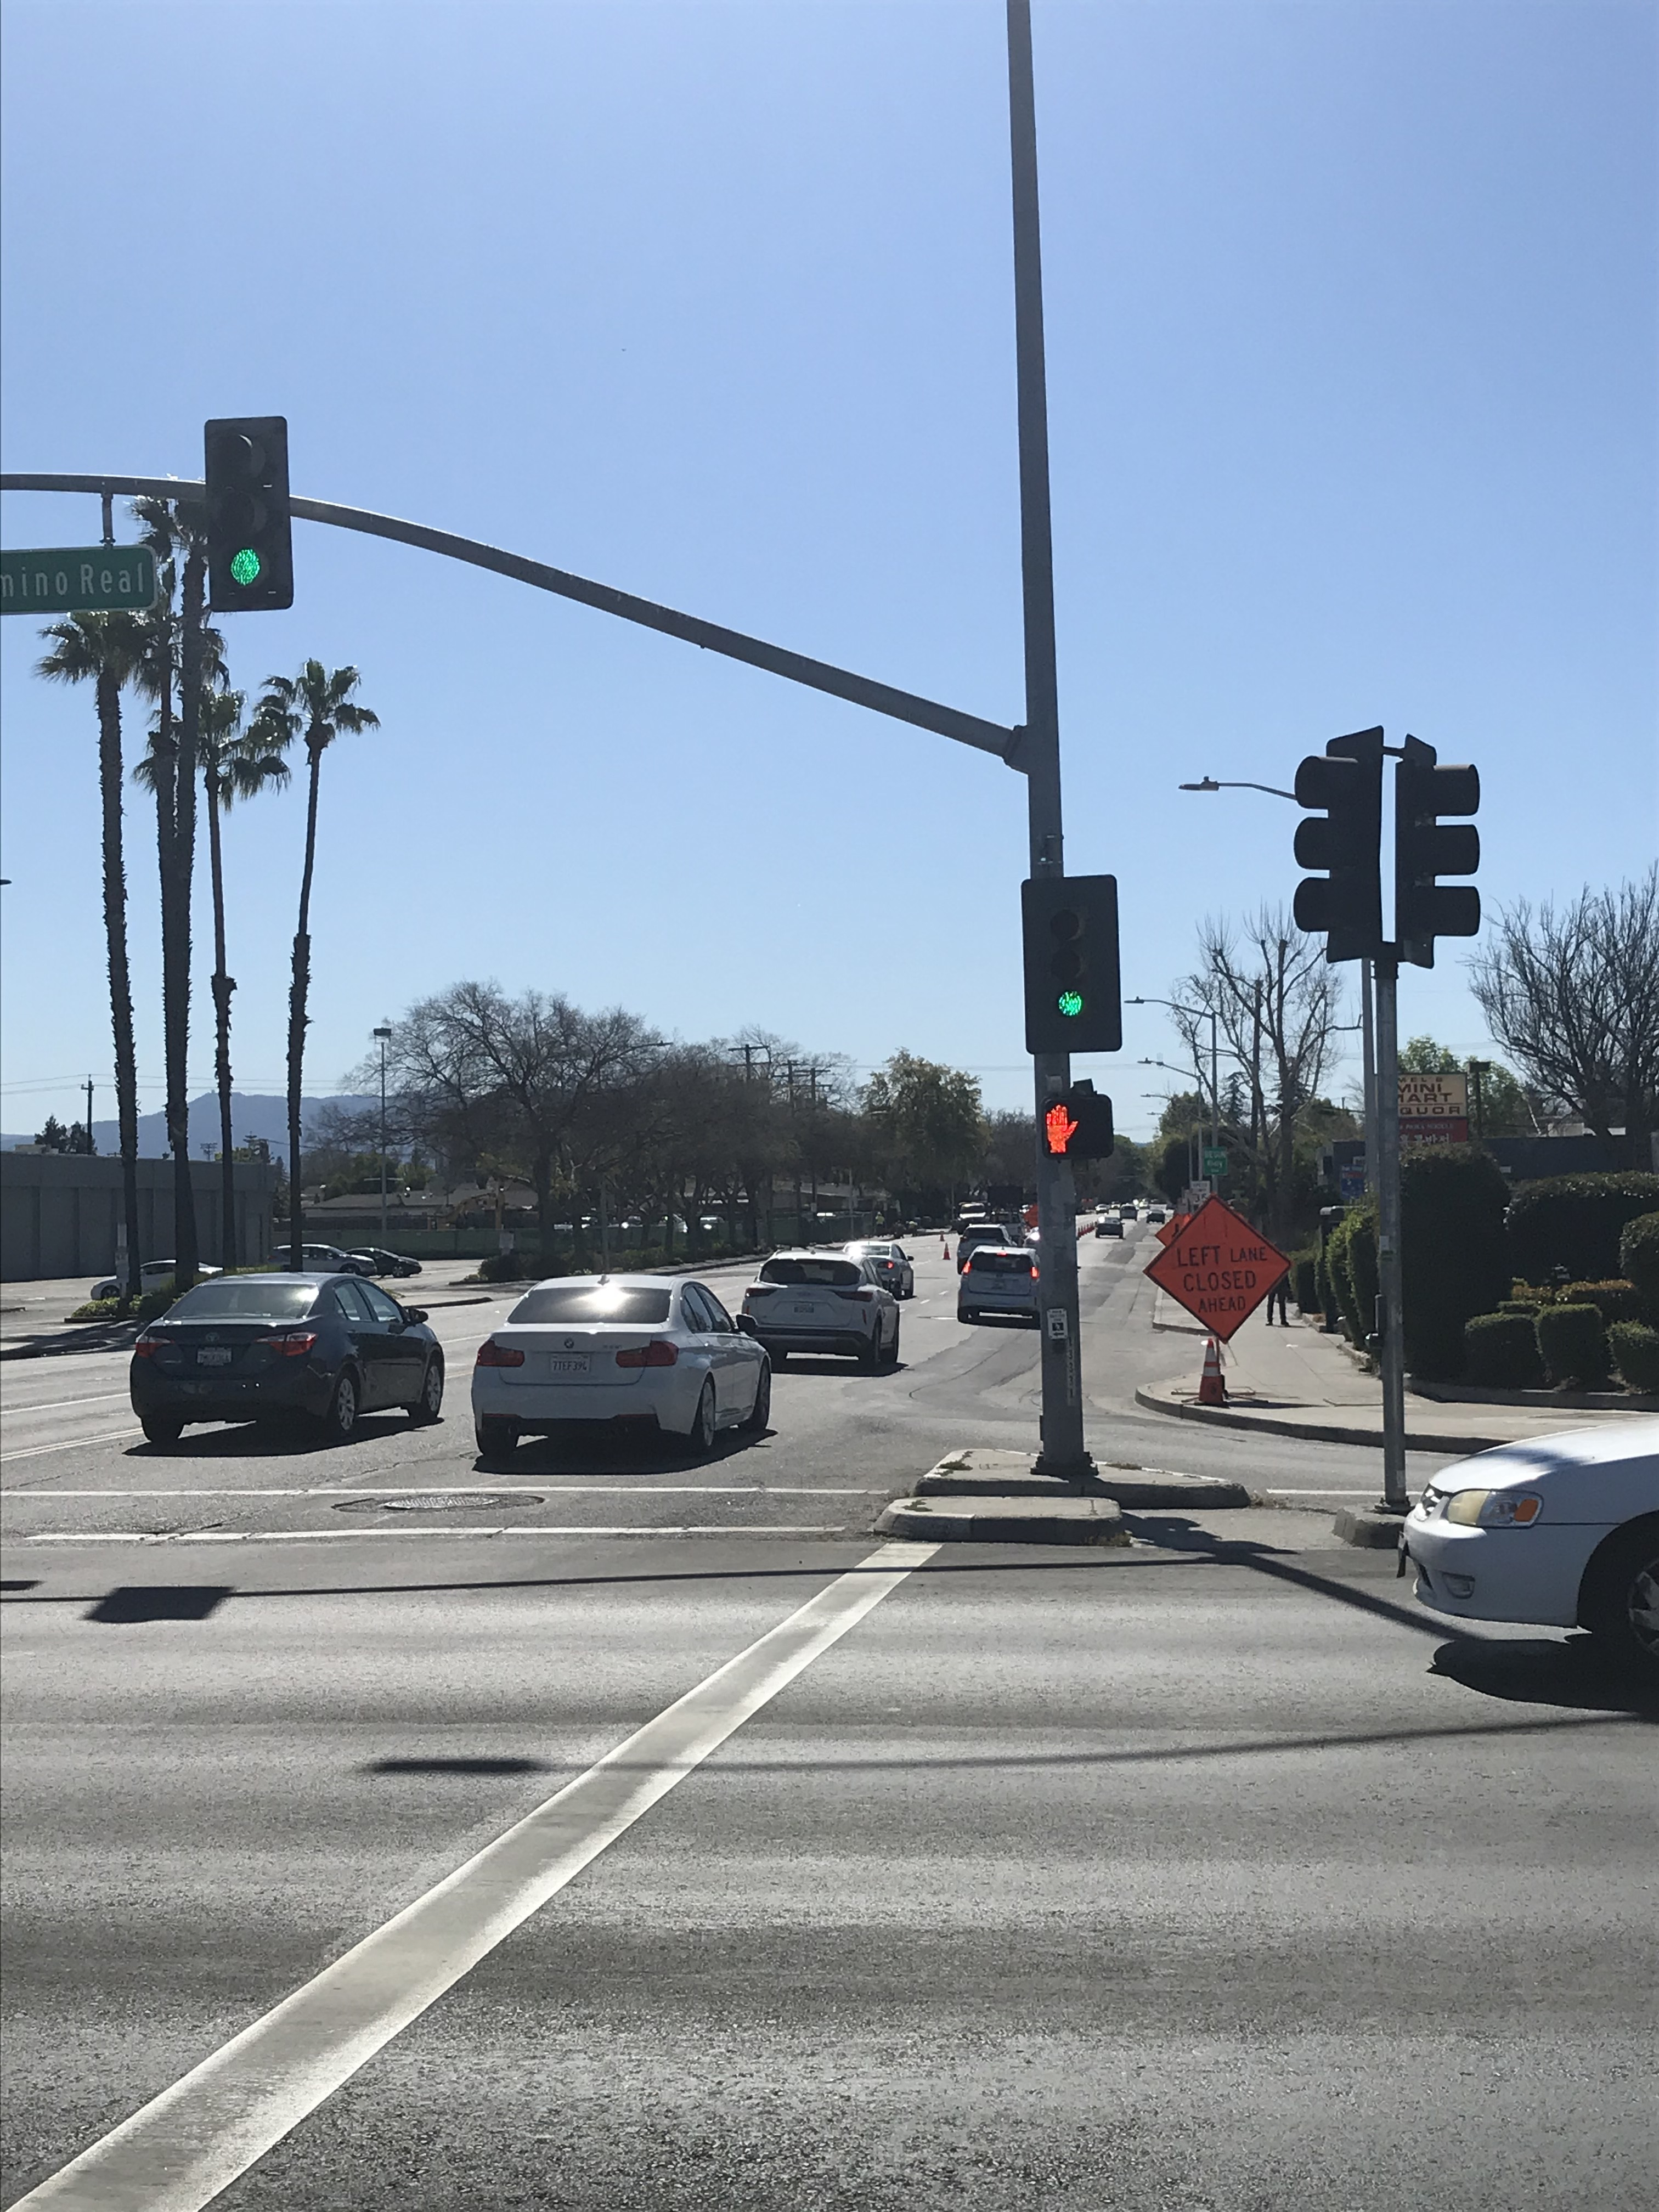green_light: (206, 416, 286, 601), (1026, 878, 1112, 1047)
